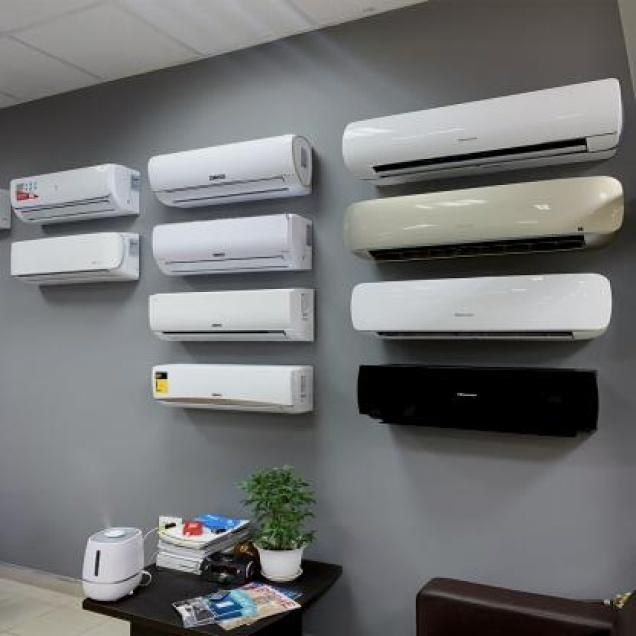AC: (339, 76, 622, 188), (342, 174, 626, 265), (349, 271, 613, 342), (145, 131, 314, 208), (149, 210, 314, 274), (147, 286, 314, 341), (8, 161, 141, 227), (151, 361, 314, 414), (8, 229, 141, 288)
